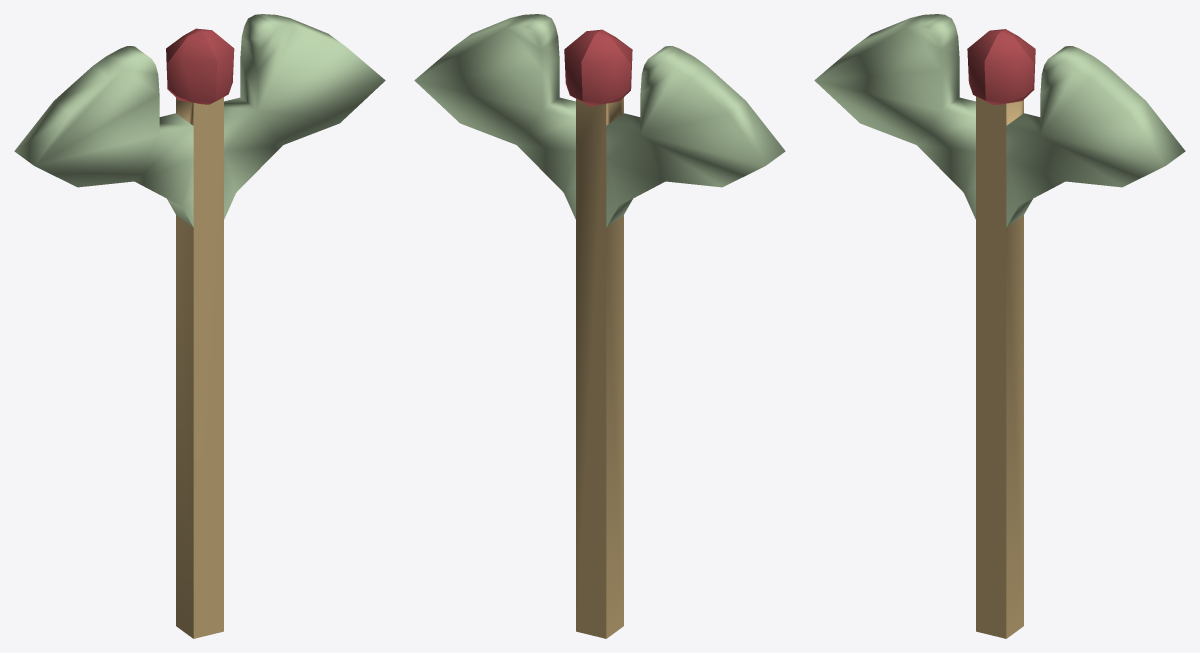
File: ClericStaffForTexturing.fbx
3 views of the same model, side by side, from view 1: azimuth 30°, elevation 25°; view 2: azimuth 150°, elevation 25°; view 3: azimuth 330°, elevation 25° (orthographic).
Parts seen in each view (by area): view 1: spear1; view 2: spear1; view 3: spear1.
Boxes of the visible parts, x1,y1,x2,y2 form: spear1: (14,14,385,638); spear1: (414,14,785,638); spear1: (814,14,1185,638).
Size of the model in its own units: 117 by 190 by 19.61.
